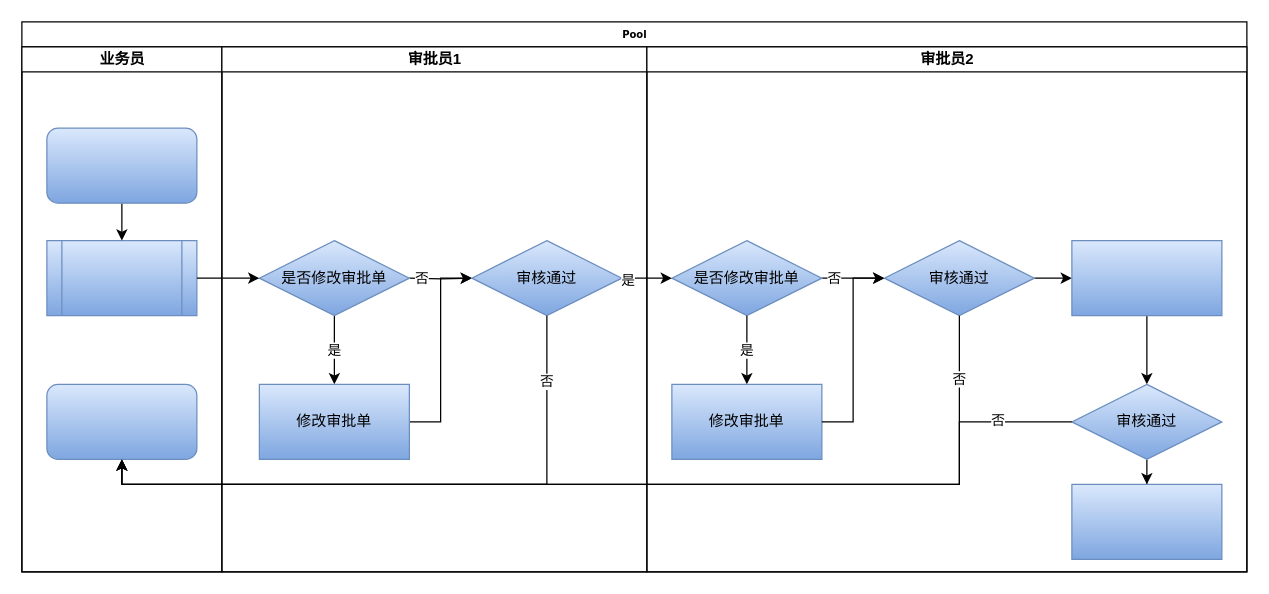
Some shapes in this 1269 by 594 pixel diagram are drawn without their labels. The shapes that lost their labels are listed below. From the top down, each one's centre as x and y in pixels, then its label:
At [121,165]: "开始".
At [121,277]: "生成审批单".
At [1146,277]: "弹出修改信息，再次确认是否审核通过".
At [121,421]: "审批失败，驳回审核".
At [1146,521]: "结束".
